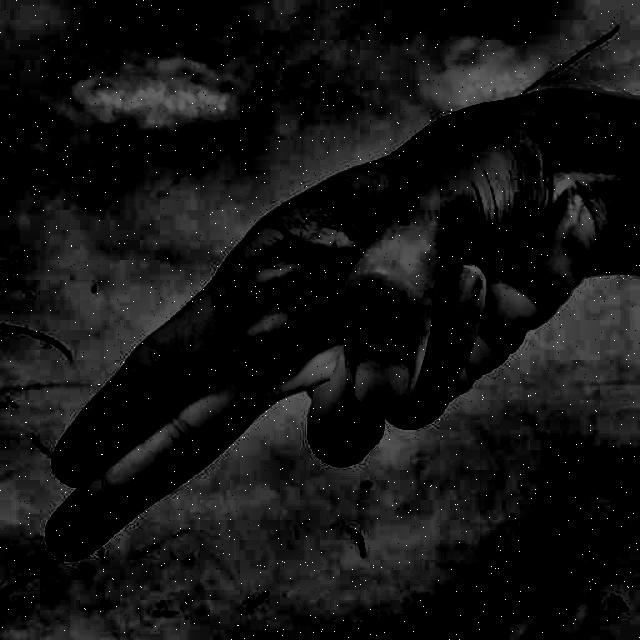Ha: (38, 80, 615, 598)
